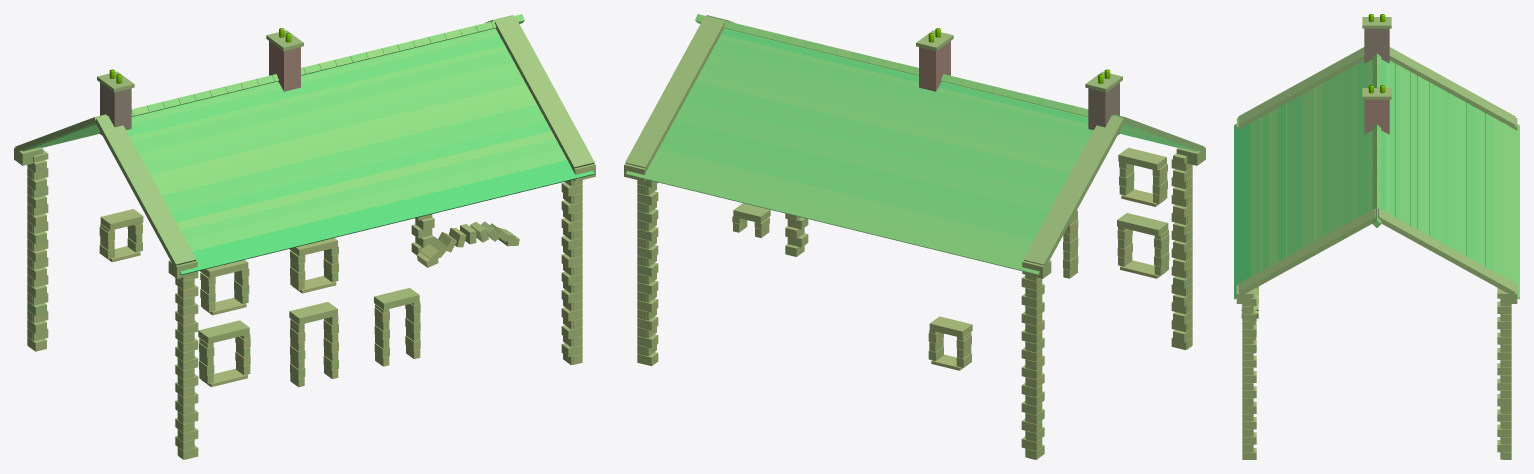
Rendered from SM_Bld_021_Stone.glb.
The picture shows the model from 3 angles, left to right: view 1: azimuth 30°, elevation 25°; view 2: azimuth 150°, elevation 25°; view 3: azimuth 270°, elevation 25°; orthographic projection. The views are drawn at different scales.
Visible parts, largest first — view 1: SM_Bld_021_Stone; view 2: SM_Bld_021_Stone; view 3: SM_Bld_021_Stone.
Part boxes in pixels (<box>): SM_Bld_021_Stone: <box>14,14,595,459</box>; SM_Bld_021_Stone: <box>624,14,1205,459</box>; SM_Bld_021_Stone: <box>1234,14,1519,459</box>.
Bounding box in the file's own units: 15 × 10.99 × 10.11.
